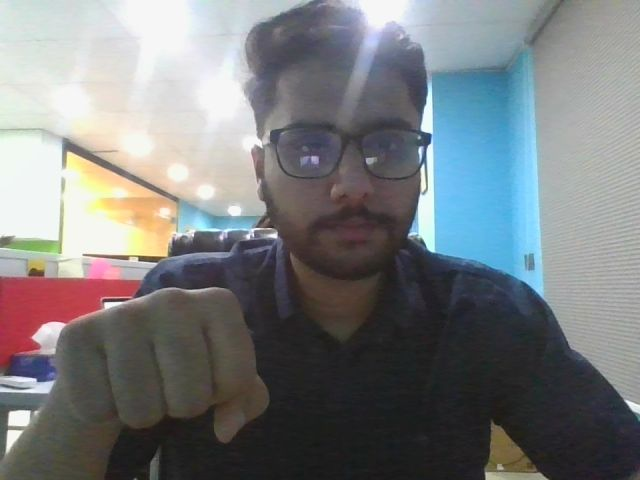yes: (36, 270, 283, 463)
